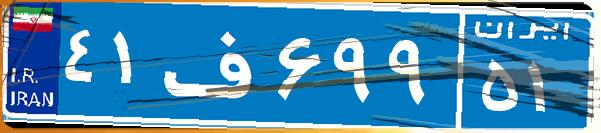1: (110, 28, 158, 105), (525, 38, 570, 115)
4: (57, 26, 110, 107)
5: (475, 38, 525, 113)
6: (273, 28, 330, 110)
9: (385, 28, 445, 110), (330, 28, 385, 110)
ف: (158, 15, 273, 115)
